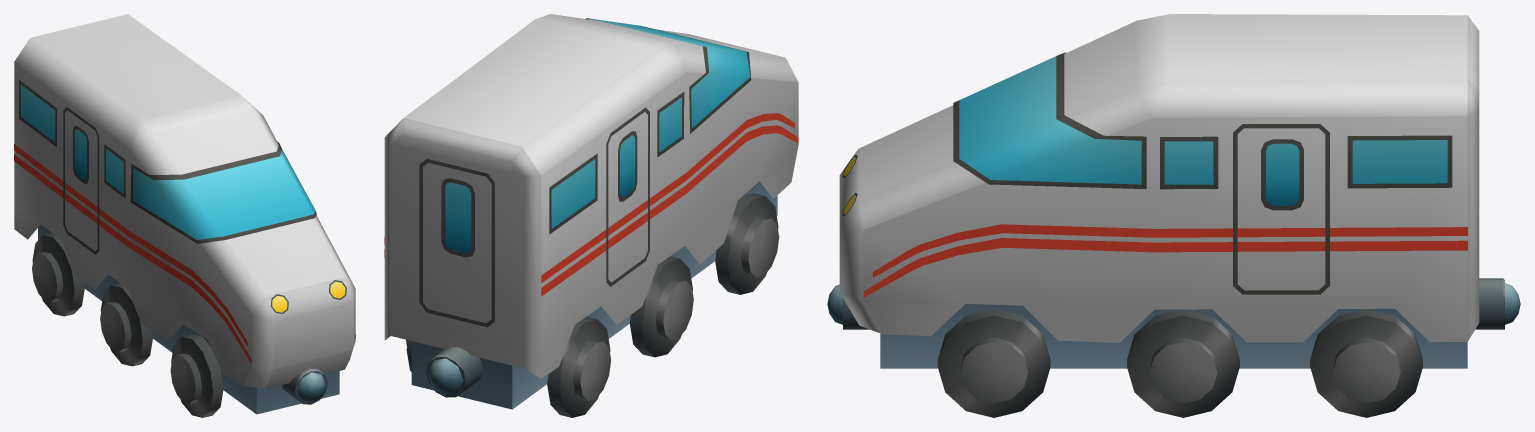
The model's file is Electric_Express.fbx.
3 views of the same model, side by side, from view 1: azimuth 30°, elevation 25°; view 2: azimuth 150°, elevation 25°; view 3: azimuth 270°, elevation 25° (orthographic). The views are drawn at different scales.
Visible parts, largest first — view 1: Electric_Express; view 2: Electric_Express; view 3: Electric_Express.
Boxes of the visible parts, left/top/right/bottom form: Electric_Express: left=14, top=14, right=355, bottom=417; Electric_Express: left=384, top=14, right=798, bottom=417; Electric_Express: left=827, top=14, right=1520, bottom=417.
Size of the model in its own units: 276 by 449 by 856.
